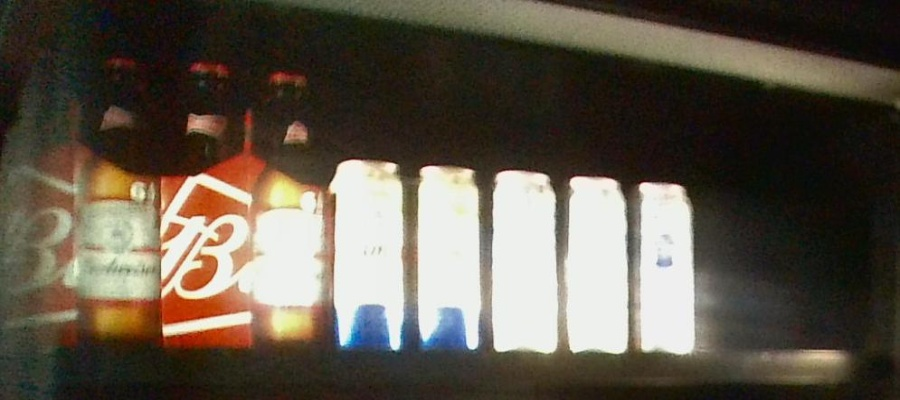bottle: (1, 50, 163, 347), (166, 61, 332, 349), (489, 167, 698, 358), (331, 152, 488, 350)
